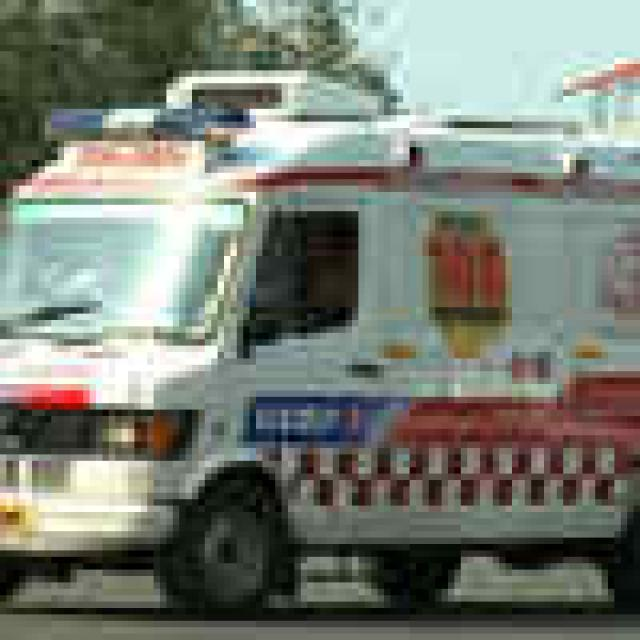ambulance: (0, 71, 640, 628)
